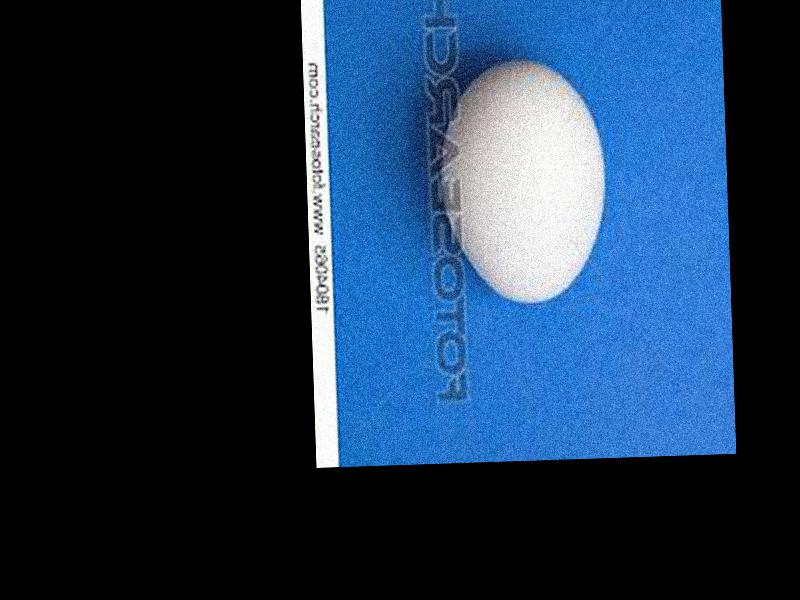Eggs: (433, 57, 608, 305)
